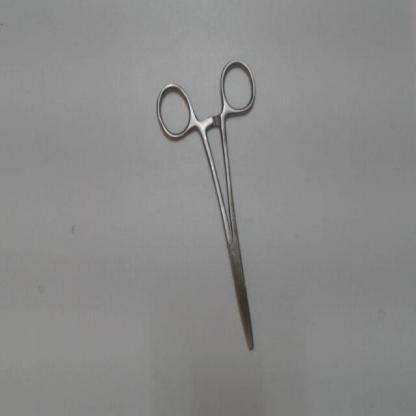Mayo Needle Holder: (148, 49, 265, 366)
